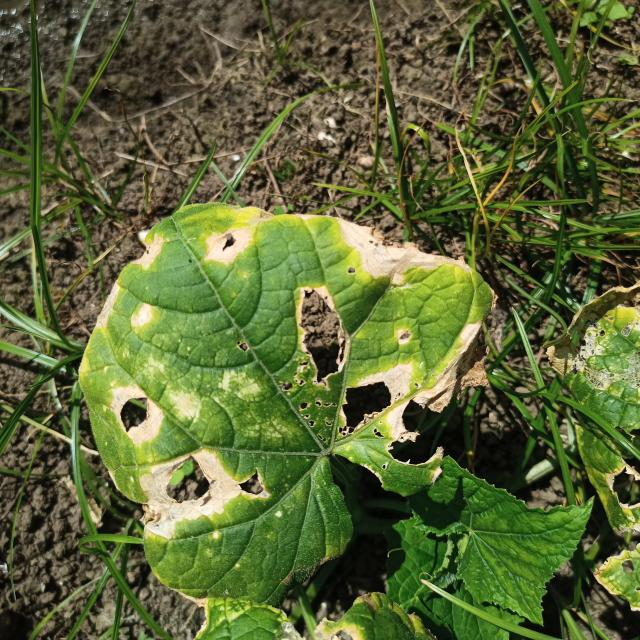disease_cucumber: (87, 219, 467, 539)
